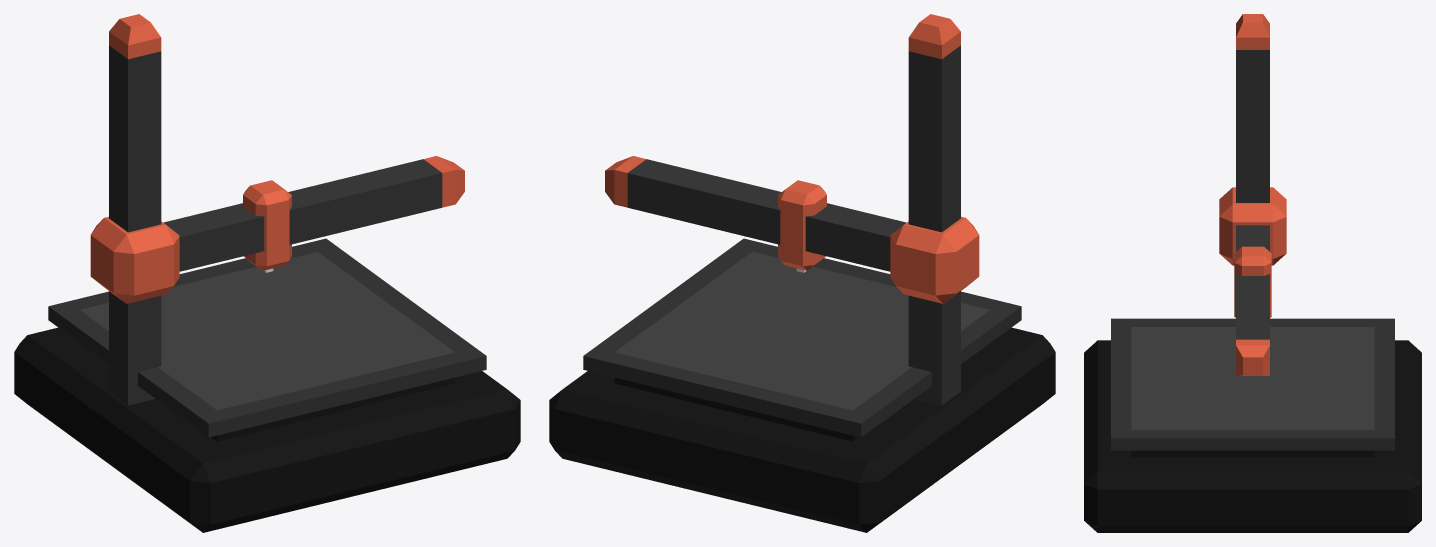
File: 3D_Printer_TD_1.fbx
3 views of the same model, side by side, from view 1: azimuth 30°, elevation 25°; view 2: azimuth 150°, elevation 25°; view 3: azimuth 270°, elevation 25° (orthographic). The views are drawn at different scales.
Parts seen in each view (by area): view 1: Cube, Cube.002, Cube.005; view 2: Cube, Cube.002, Cube.005; view 3: Cube, Cube.002, Cube.005.
Part boxes in pixels (x1,y1,x2,y2): Cube: (14, 14, 520, 532); Cube.002: (90, 156, 464, 303); Cube.005: (243, 180, 291, 272); Cube: (549, 14, 1055, 532); Cube.002: (605, 156, 979, 303); Cube.005: (778, 180, 826, 272); Cube: (1084, 14, 1421, 532); Cube.002: (1219, 187, 1286, 375); Cube.005: (1234, 246, 1271, 317).
Size of the model in its own units: 540 by 640 by 500.
